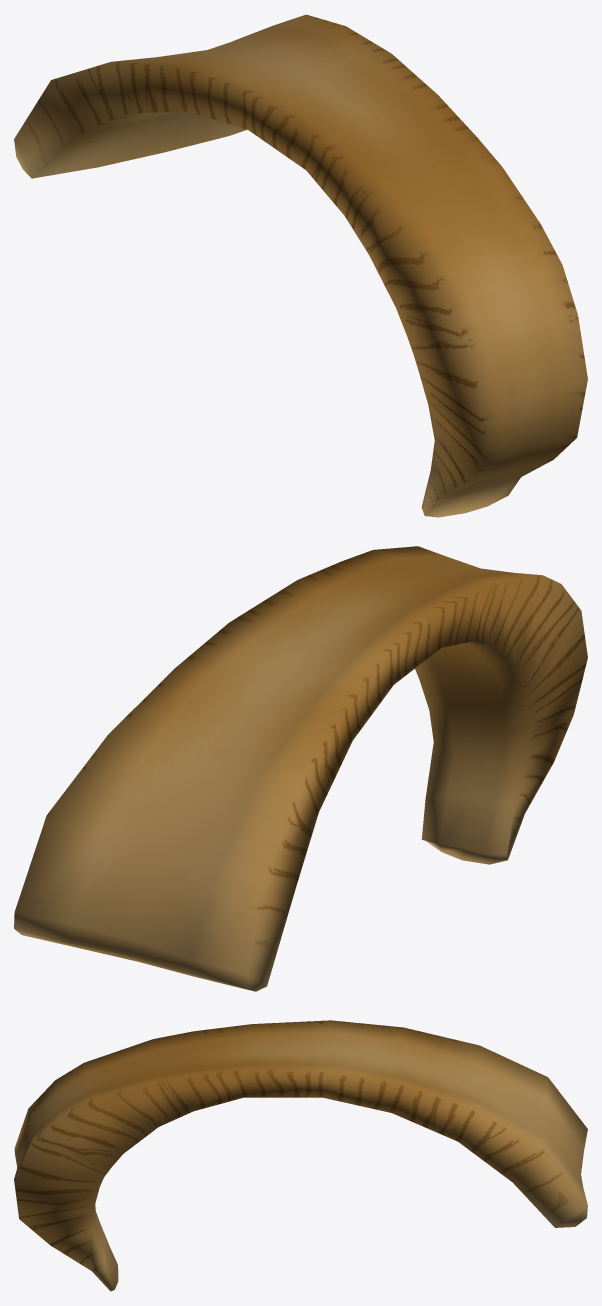
File: Callosum.FBX
The picture shows the model from 3 angles, top to bottom: view 1: azimuth 30°, elevation 25°; view 2: azimuth 150°, elevation 25°; view 3: azimuth 270°, elevation 25°; orthographic projection. The views are drawn at different scales.
Parts seen in each view (by area): view 1: Mozol; view 2: Mozol; view 3: Mozol.
Part boxes in pixels (x1,y1,x2,y2): Mozol: (14,14,587,517); Mozol: (14,546,587,991); Mozol: (14,1020,587,1291).
Size of the model in its own units: 22.29 by 64.81 by 29.55.
